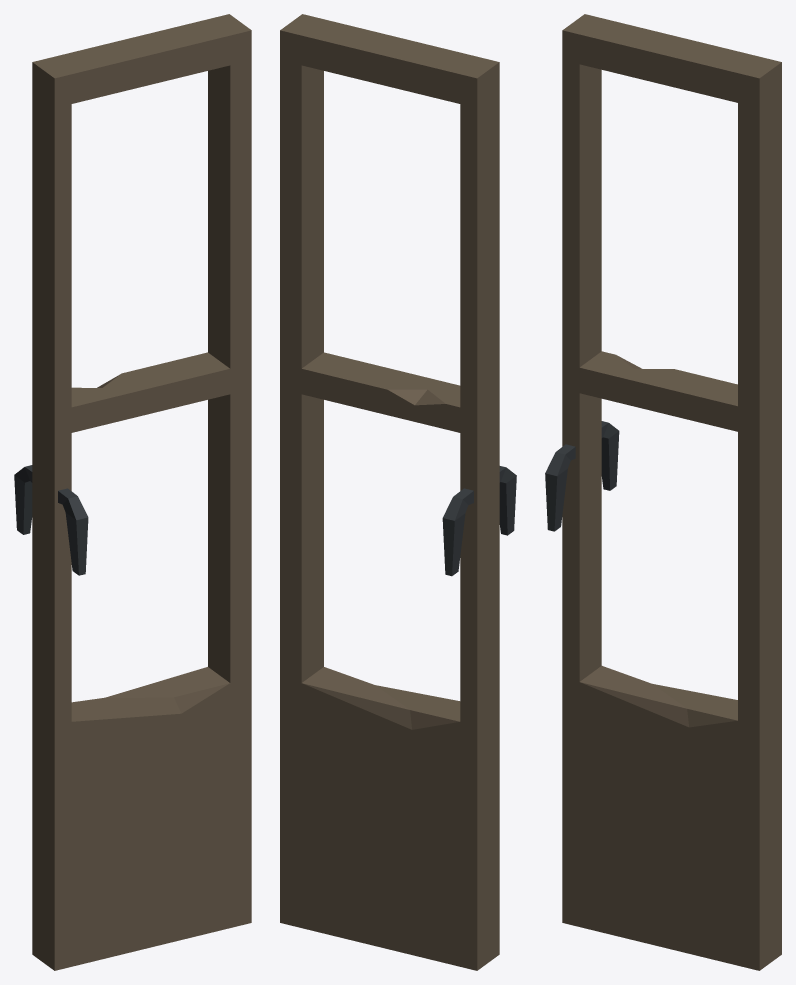
Rendered from SM_Bld_Shop_Door_01_R.glb.
3 views of the same model, side by side, from view 1: azimuth 30°, elevation 25°; view 2: azimuth 150°, elevation 25°; view 3: azimuth 330°, elevation 25° (orthographic).
Parts seen in each view (by area): view 1: SM_Bld_Shop_Door_01_R; view 2: SM_Bld_Shop_Door_01_R; view 3: SM_Bld_Shop_Door_01_R.
Part boxes in pixels (x1,y1,x2,y2): SM_Bld_Shop_Door_01_R: (14, 14, 251, 970); SM_Bld_Shop_Door_01_R: (280, 14, 516, 970); SM_Bld_Shop_Door_01_R: (545, 14, 781, 970).
Size of the model in its own units: 0.5141 by 2.22 by 0.2805.
Materials: 1 (1 with a texture image).
